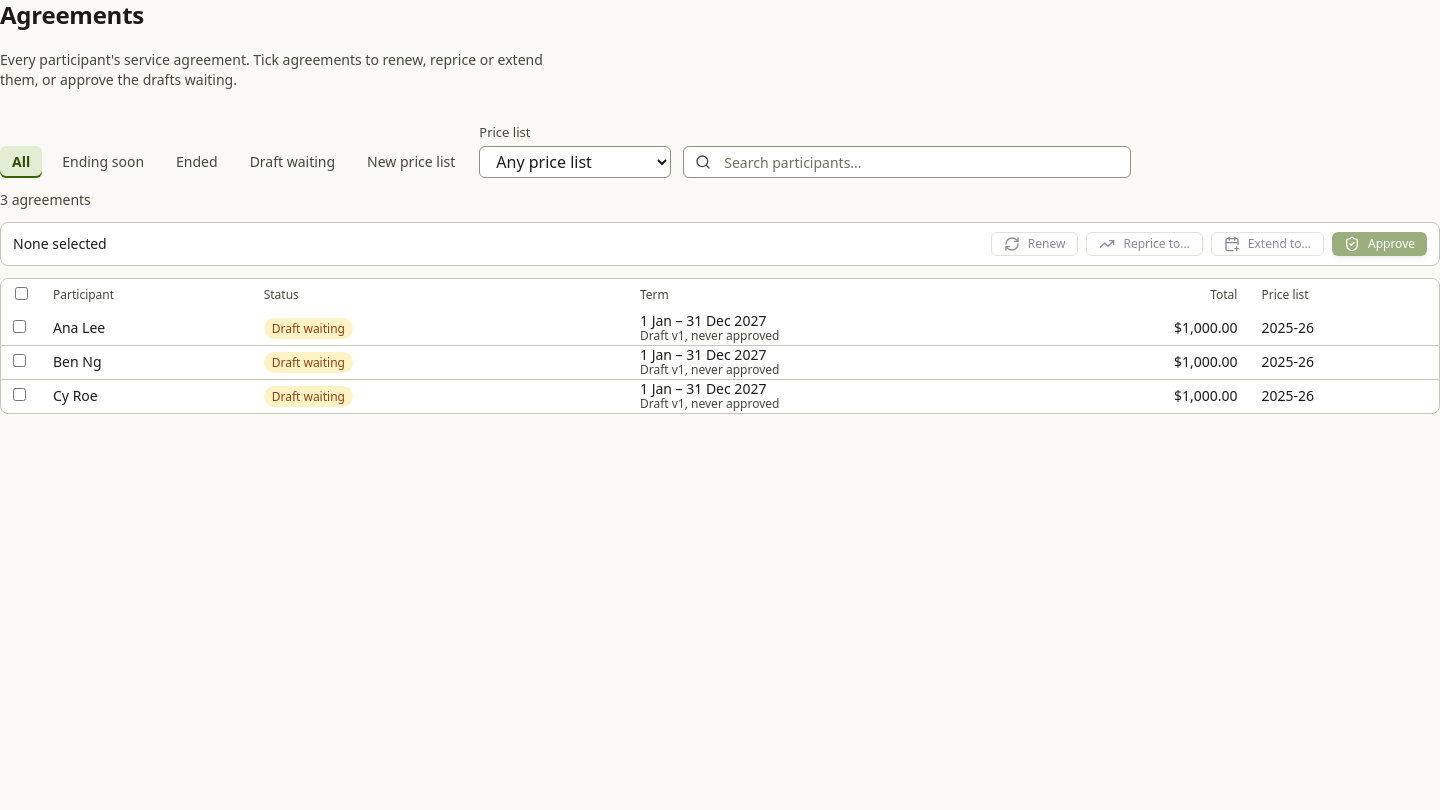
Test case: AgreementsPage approve (real hook) › lists what each agreement came to and reads the list again afterwards
Expected: the text "Ana Lee" is shown, [53, 318, 105, 337]
Click the checkbox named "Select row p1" at (20, 326), box [13, 320, 26, 333]
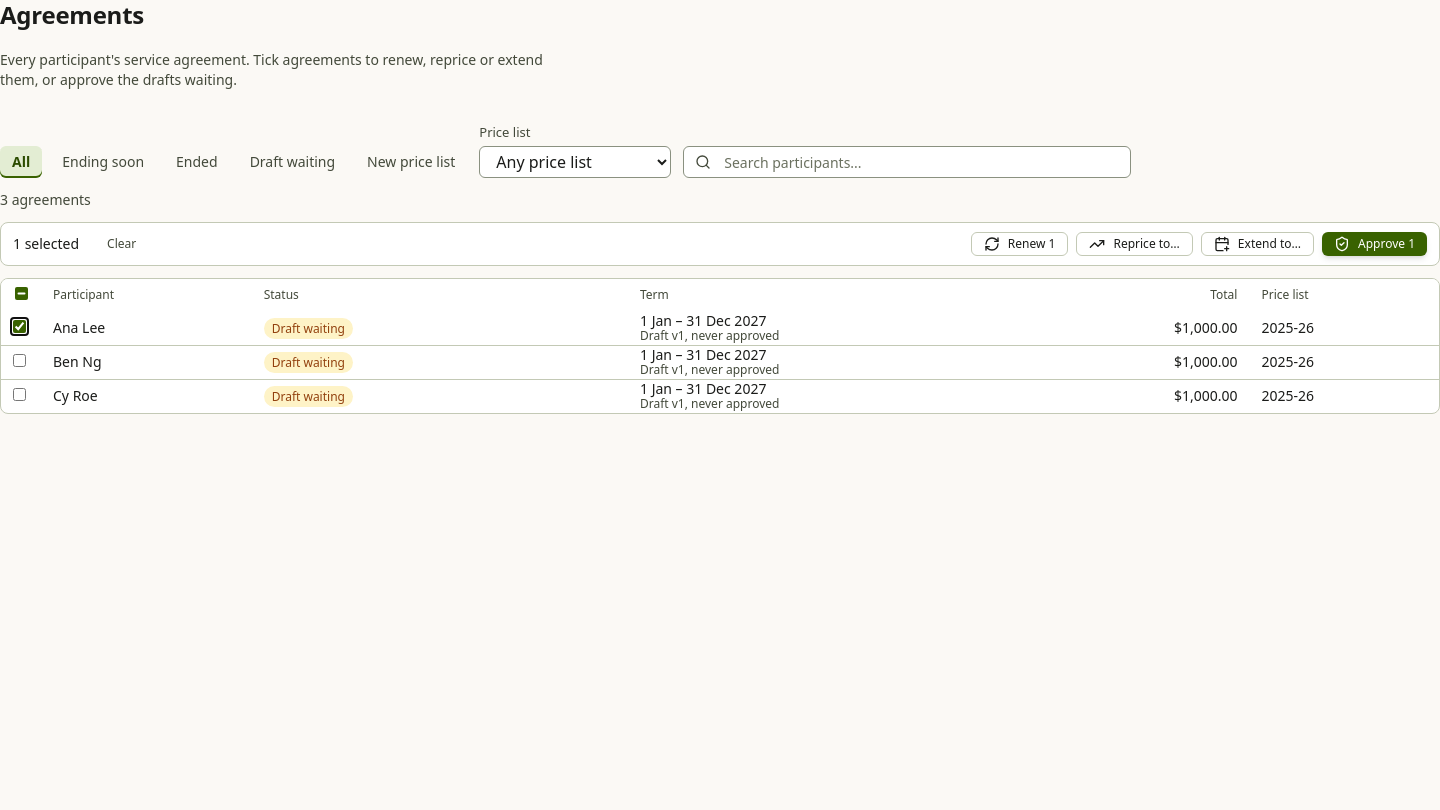
Click the checkbox named "Select row p2" at (20, 361), box [13, 354, 26, 367]
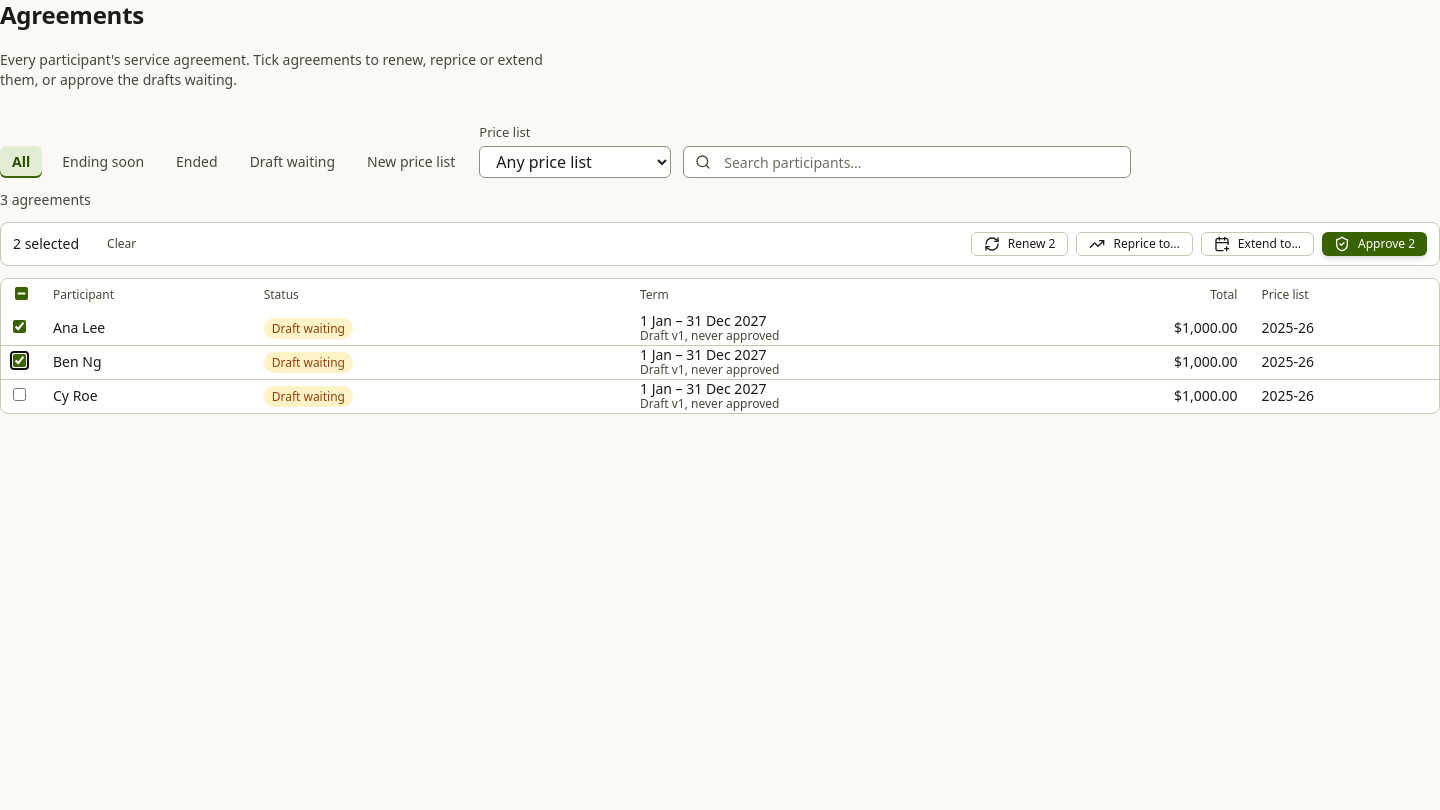
Click the checkbox named "Select row p3" at (20, 395), box [13, 388, 26, 401]
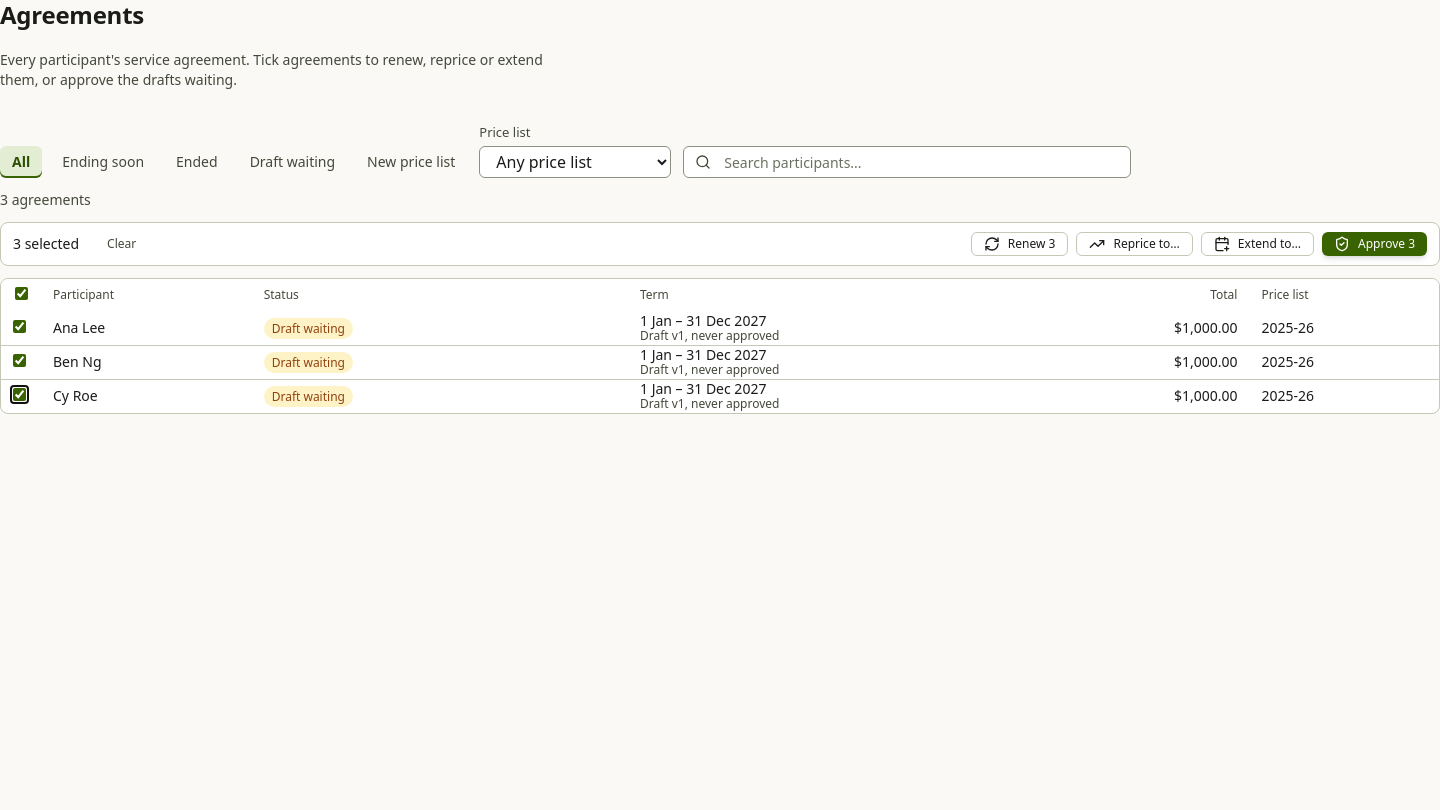
Click the button "Approve 3" at (1374, 244), box [1322, 232, 1427, 256]
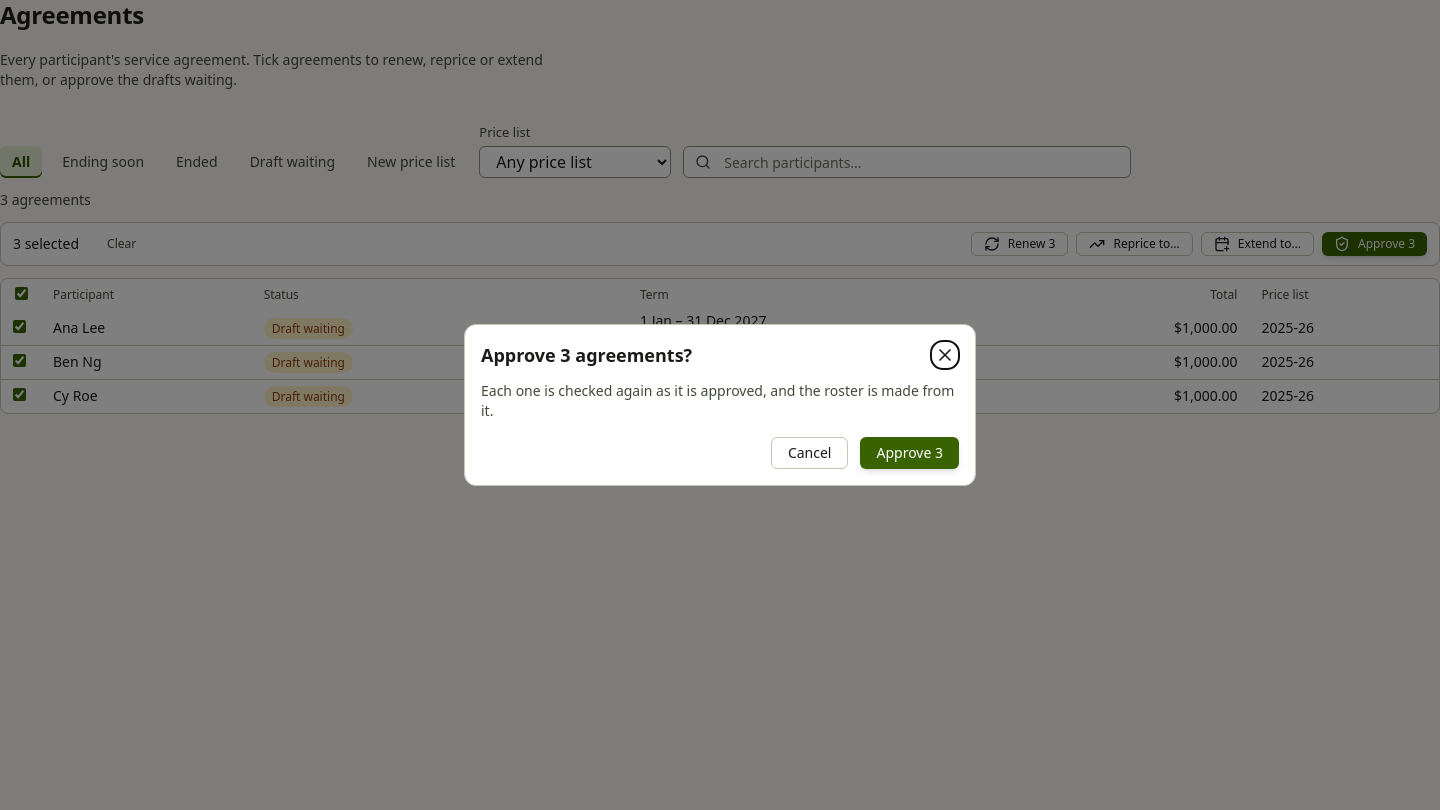
Click the button "Approve 3" at (910, 453), box [860, 437, 959, 469]
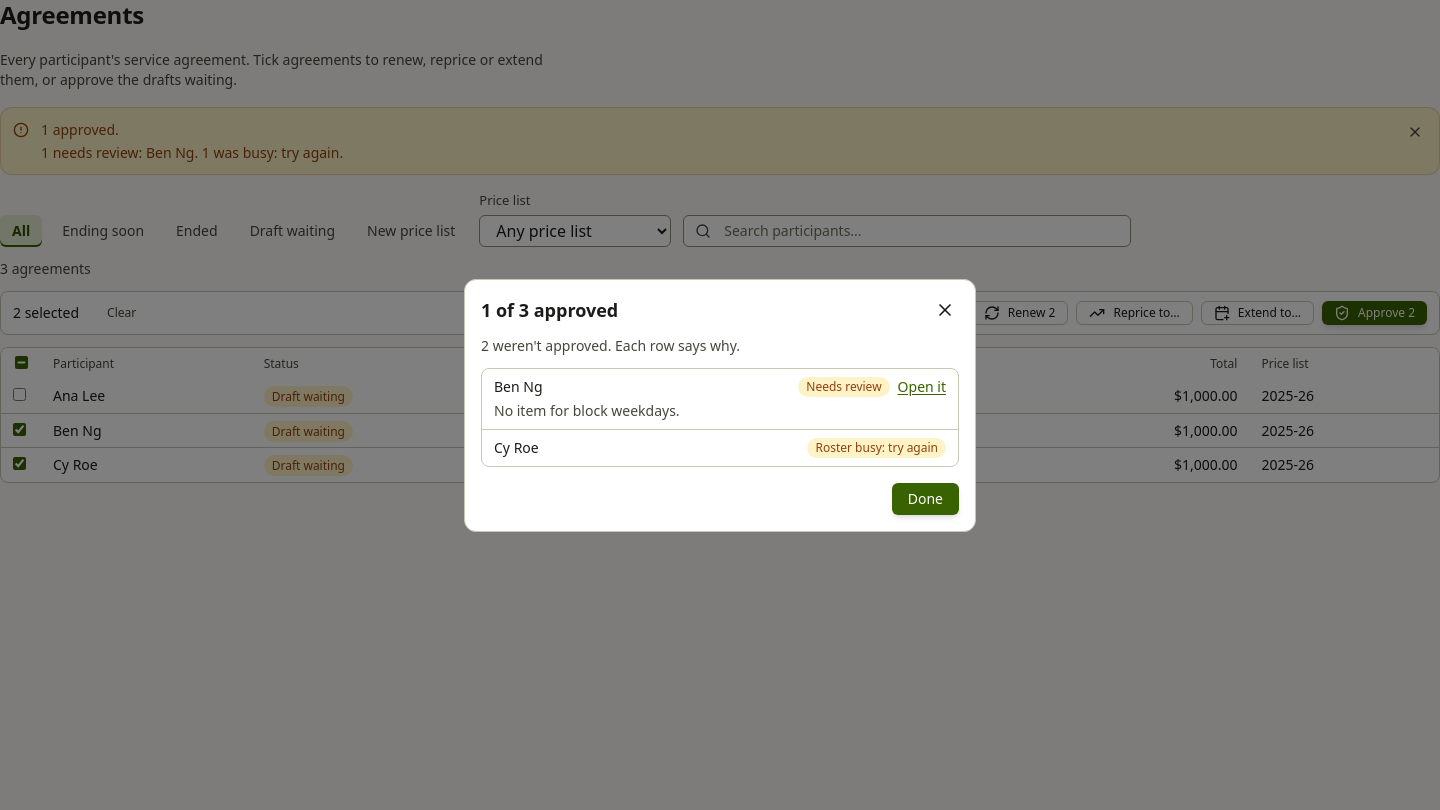
Now the text "2 weren't approved. Each row says why." is shown, box [481, 336, 740, 354]
Now the number of list items is 2, box [482, 368, 958, 430]; [494, 438, 946, 458]
Now the text "Ben Ng" is shown, box [494, 376, 542, 396]
